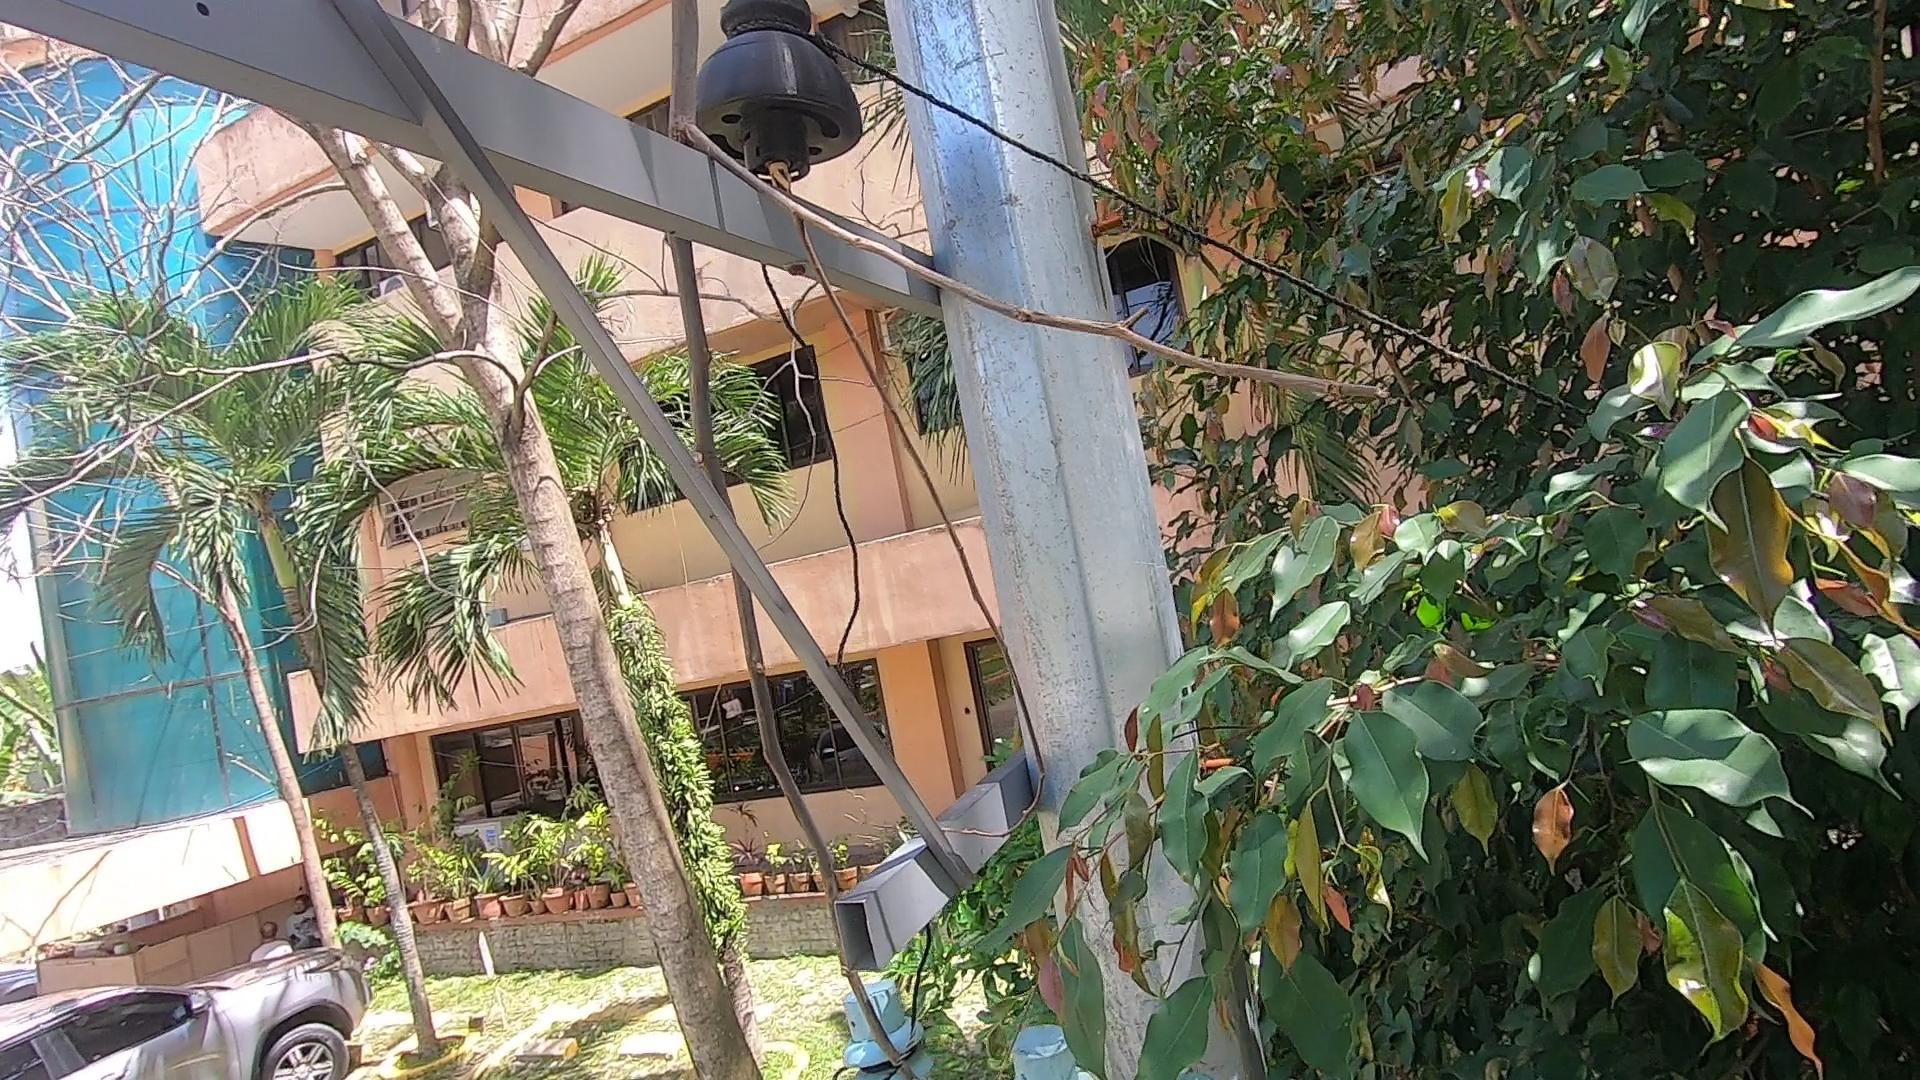leaf: (971, 810, 1383, 1080)
tree branch: (604, 3, 1414, 1064)
